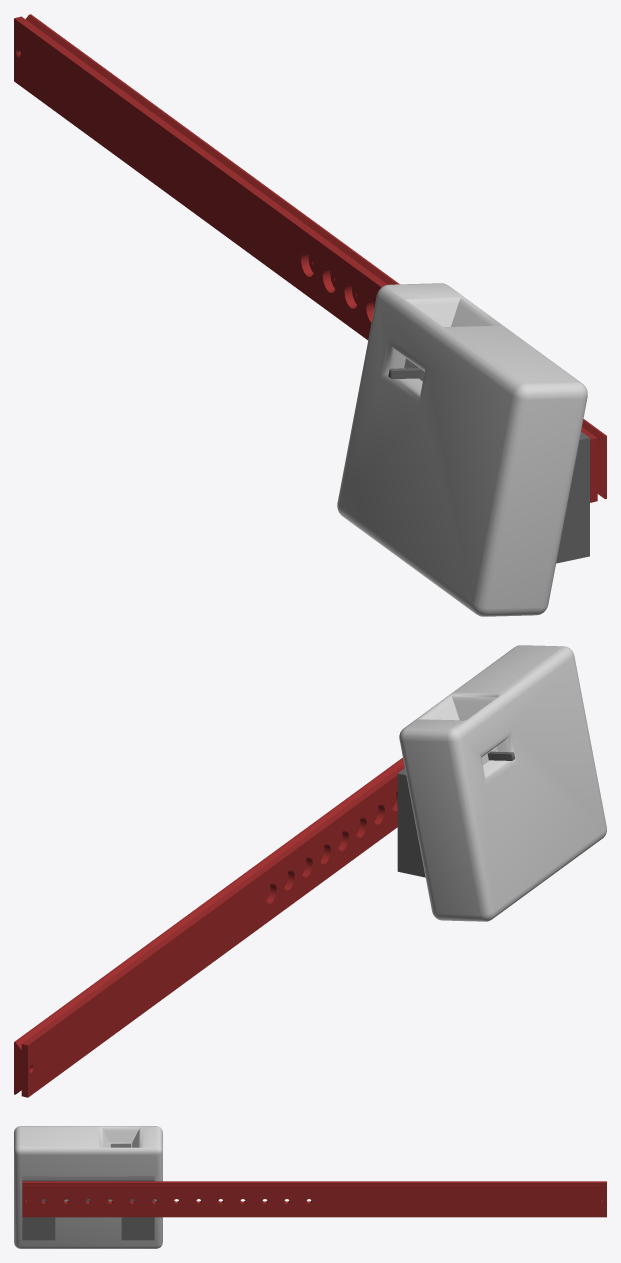
File: sls_2_projector_ruler.dae
The picture shows the model from 3 angles, top to bottom: view 1: azimuth 30°, elevation 25°; view 2: azimuth 150°, elevation 25°; view 3: azimuth 270°, elevation 25°; orthographic projection. The views are drawn at different scales.
Parts seen in each view (by area): view 1: projector, ruler, projector_support; view 2: projector, ruler, projector_support; view 3: ruler, projector, projector_support.
Boxes of the visible parts, x1=… form: projector: x1=337, y1=283, x2=587, y2=616; ruler: x1=14, y1=14, x2=606, y2=502; projector_support: x1=556, y1=431, x2=589, y2=563; projector: x1=399, y1=645, x2=606, y2=921; ruler: x1=14, y1=757, x2=404, y2=1097; projector_support: x1=397, y1=768, x2=425, y2=877; ruler: x1=22, y1=1181, x2=606, y2=1217; projector: x1=14, y1=1126, x2=162, y2=1248; projector_support: x1=22, y1=1176, x2=154, y2=1240.
Size of the model in its own units: 0.0722 by 0.5375 by 0.1185.
